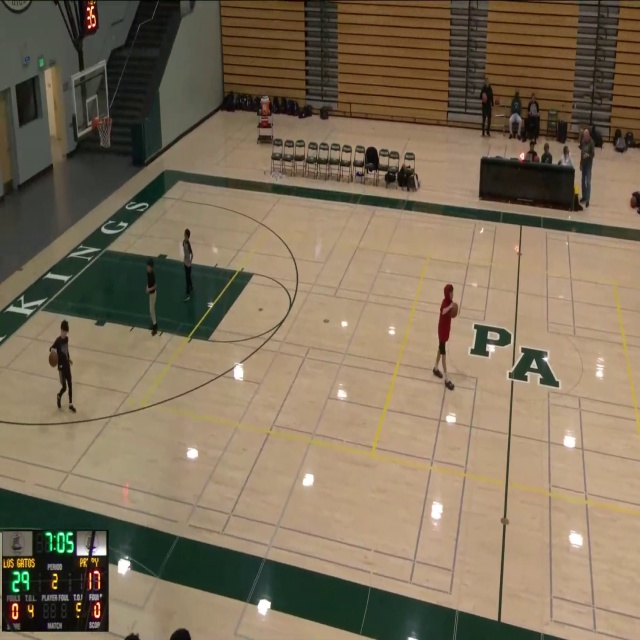Basketball: (446, 302, 458, 318), (48, 349, 58, 367)
